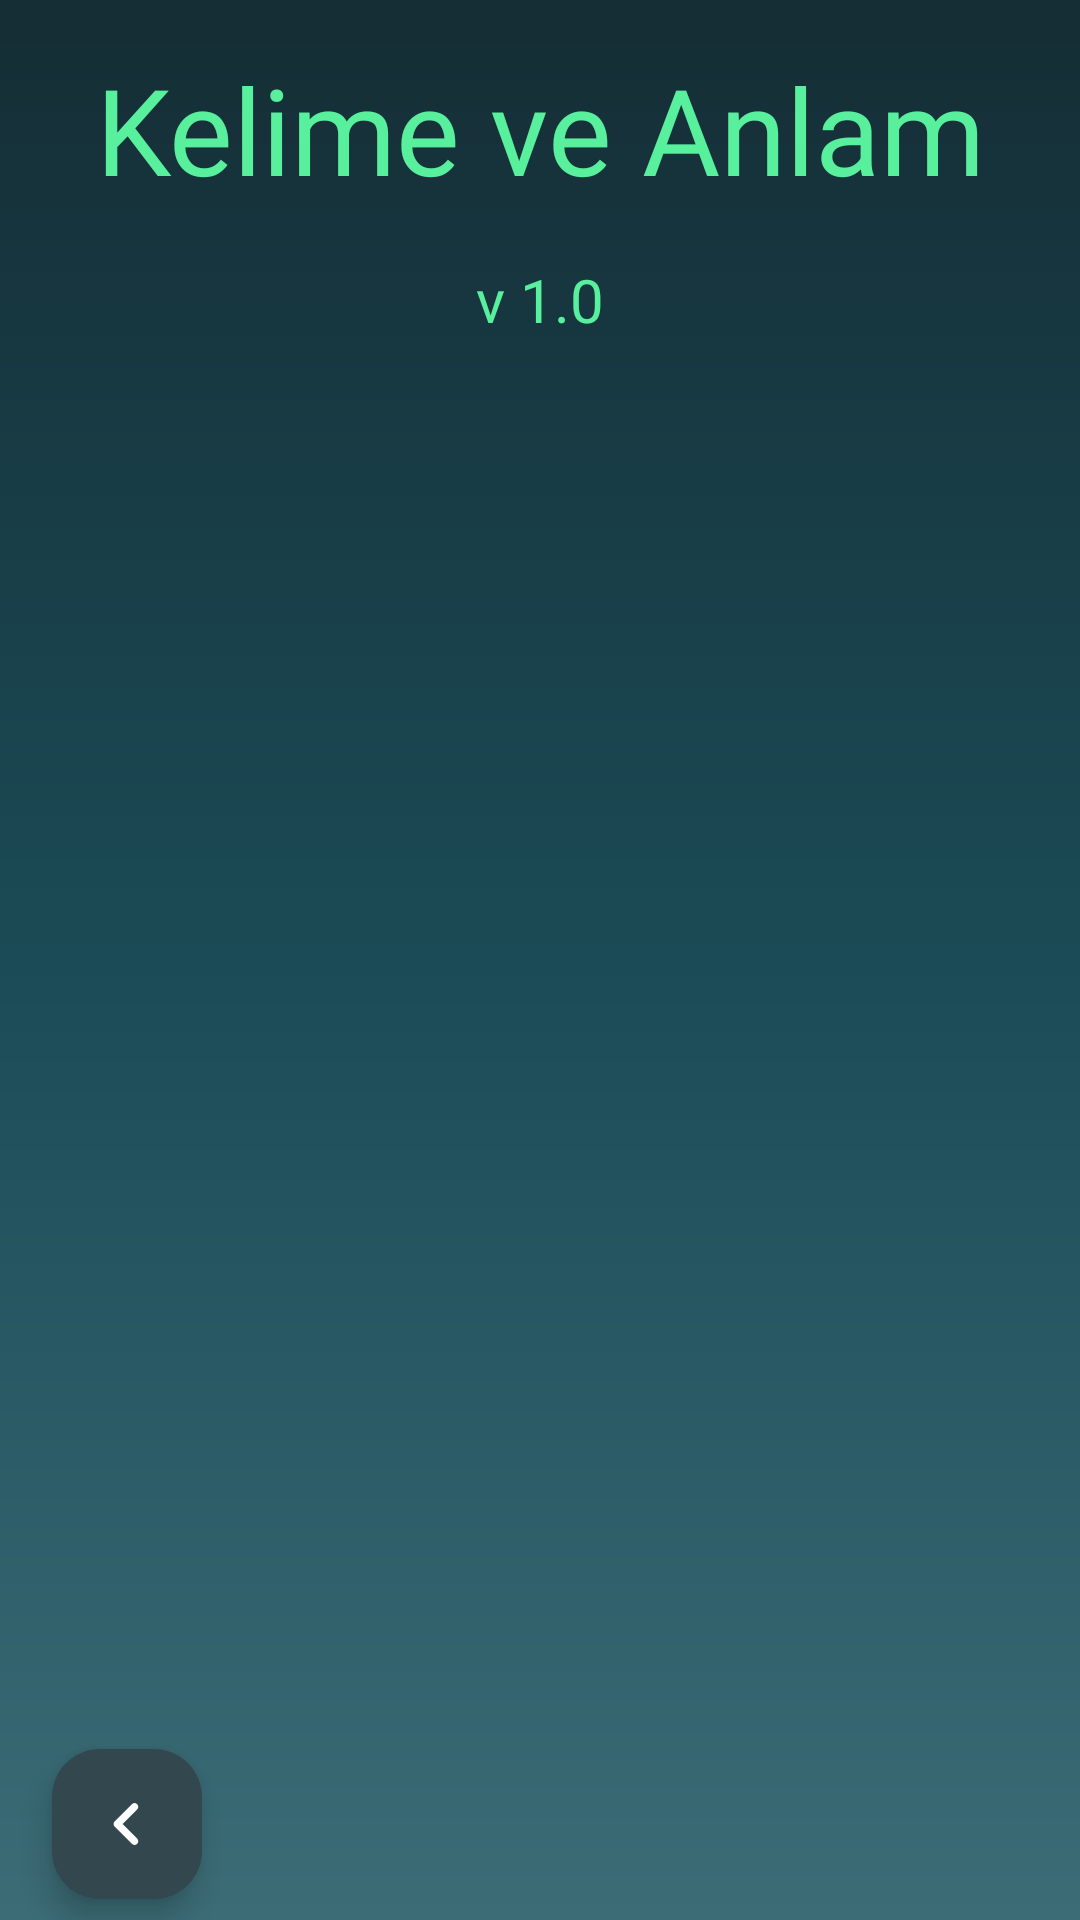

Icons on this 1080x1920 Android screen, each with its box as box(x1, y1, x2, y2):
back: box(52, 1749, 202, 1899)
